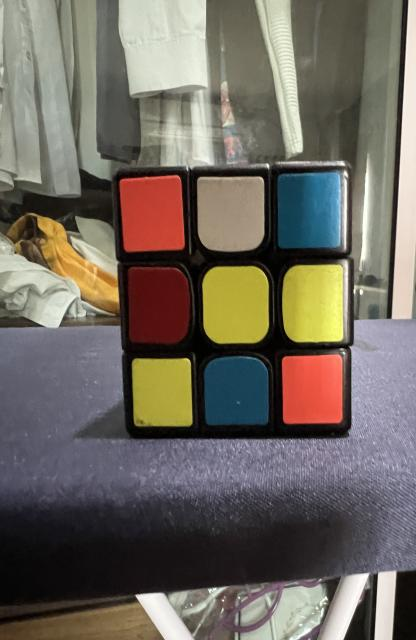Blue: (277, 172, 341, 249), (204, 356, 269, 425)
Orange: (119, 175, 185, 252), (282, 354, 342, 424)
Red: (128, 266, 191, 344)
White: (197, 176, 264, 252)
Yellow: (203, 266, 270, 344), (282, 264, 343, 342), (132, 358, 193, 426)
